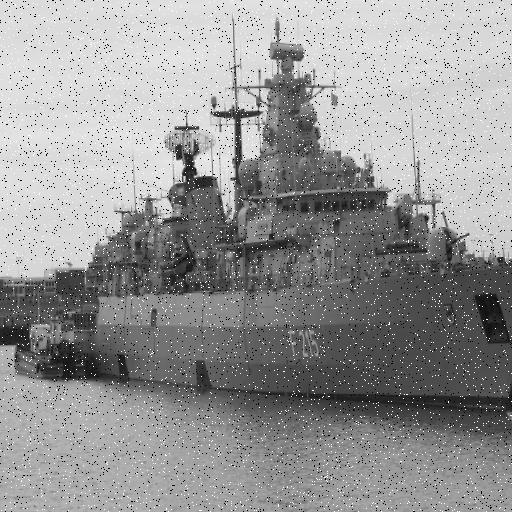Fragata: (61, 14, 512, 421)
